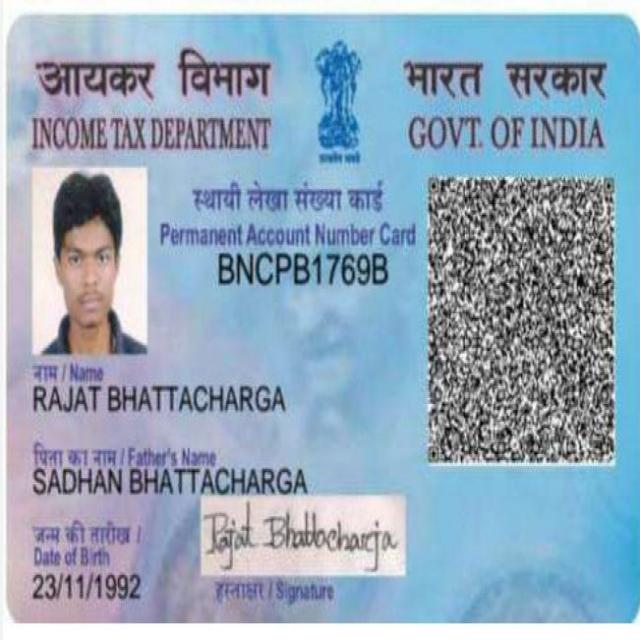pan_card: (6, 15, 639, 622)
